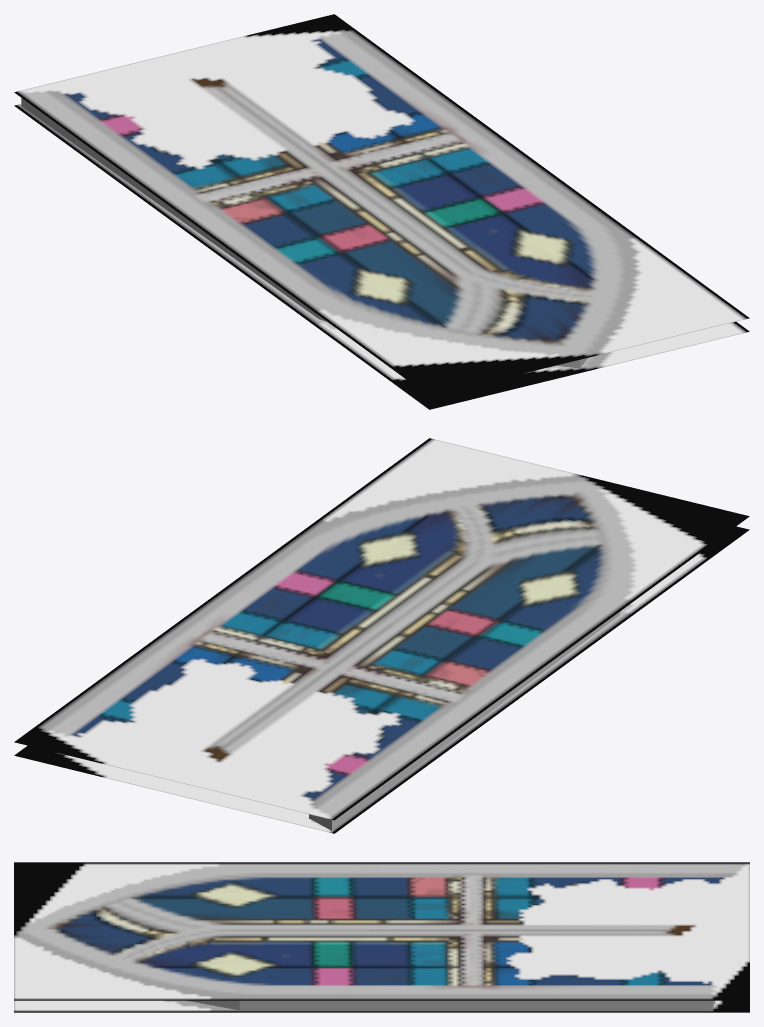
Rendered from pz_native_location_community_church_small_01_245_frame.obj.
3 renders of one model, top to bottom at view 1: azimuth 30°, elevation 25°; view 2: azimuth 150°, elevation 25°; view 3: azimuth 270°, elevation 25°, orthographic. The views are drawn at different scales.
Visible parts, largest first — view 1: pz_native_location_community_church_small_01_245_frame; view 2: pz_native_location_community_church_small_01_245_frame; view 3: pz_native_location_community_church_small_01_245_frame.
Boxes of the visible parts, x1=… form: pz_native_location_community_church_small_01_245_frame: x1=14, y1=14, x2=749, y2=409; pz_native_location_community_church_small_01_245_frame: x1=14, y1=438, x2=749, y2=833; pz_native_location_community_church_small_01_245_frame: x1=14, y1=862, x2=749, y2=1012.
Bounding box in the file's own units: 1 × 0.04 × 2.25.
Materials: 1 (1 with a texture image).
